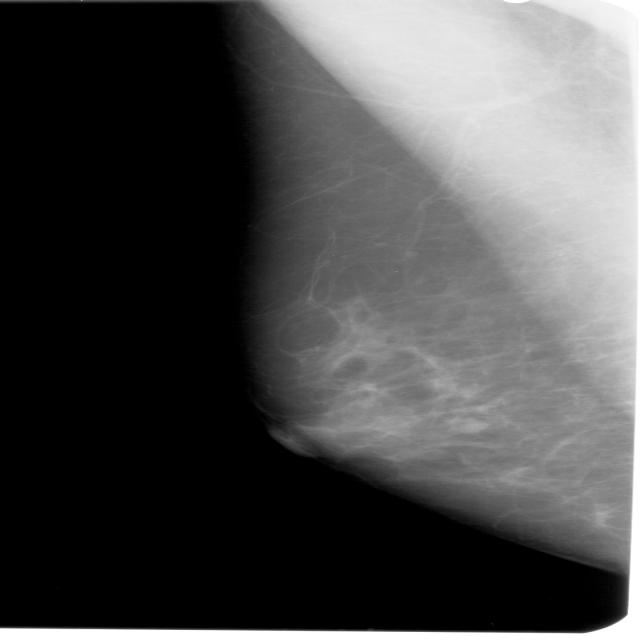normal: (240, 0, 640, 580)
